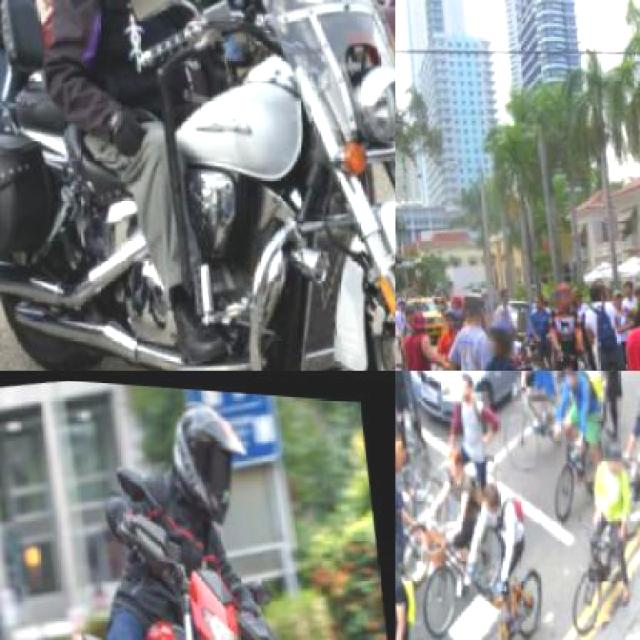With Helmet: (154, 382, 269, 530), (487, 306, 525, 357), (606, 429, 632, 473), (554, 274, 580, 312), (396, 520, 406, 582), (563, 371, 588, 389)
Without Helmet: (451, 371, 489, 406), (484, 472, 508, 510)
